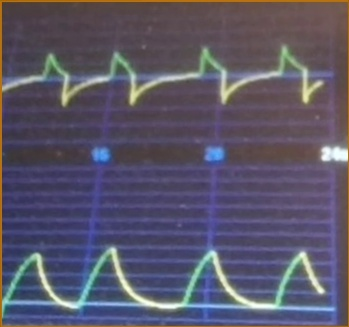Normal Flow: (4, 38, 326, 122)
Normal Volume: (4, 236, 326, 318)
